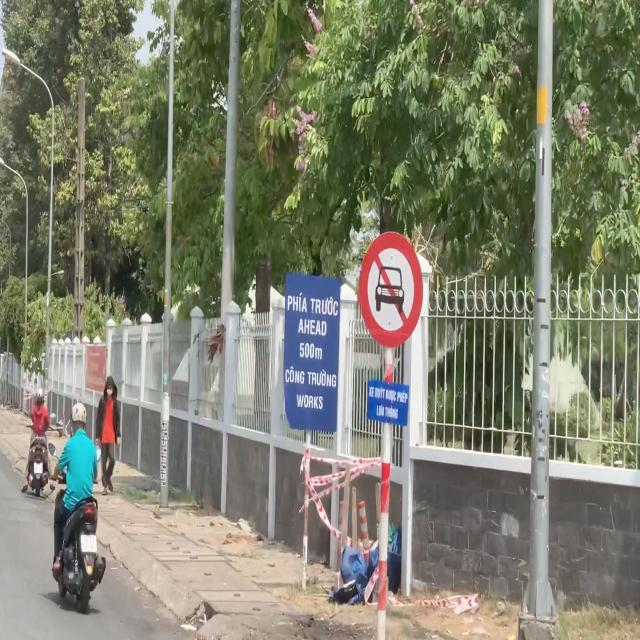Cam con lai: (360, 229, 421, 343)
